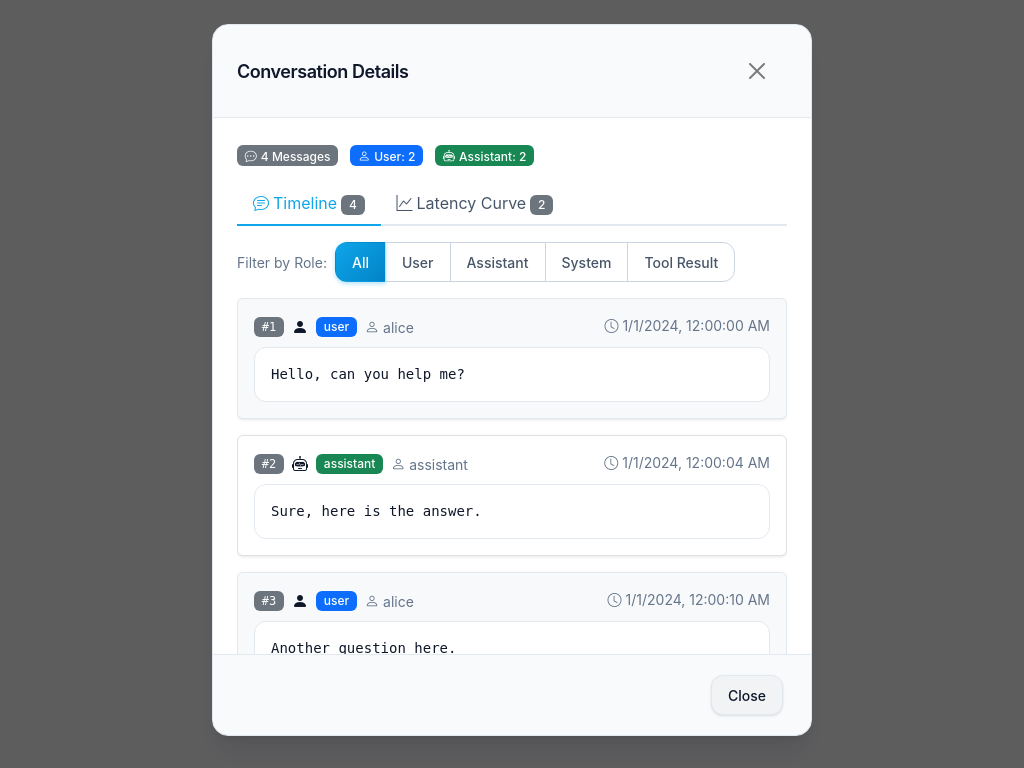
ConversationDetailModal latency linkage › renders the latency tab with response message previews
Note: Switch to the latency tab.
Click the button "Latency Curve 2": [475, 204] box [380, 182, 569, 226]
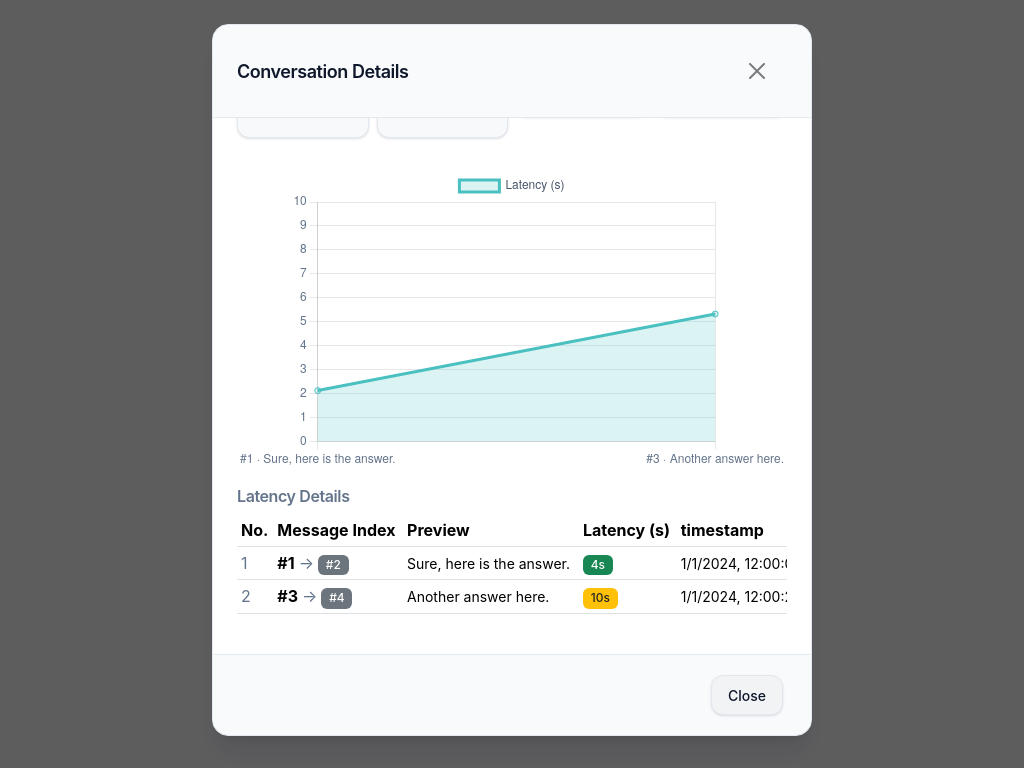
Expected: the text "Sure, here is the answer." is shown, [407, 555, 570, 572]
Expected: the text "Another answer here." is shown, [407, 588, 549, 605]
